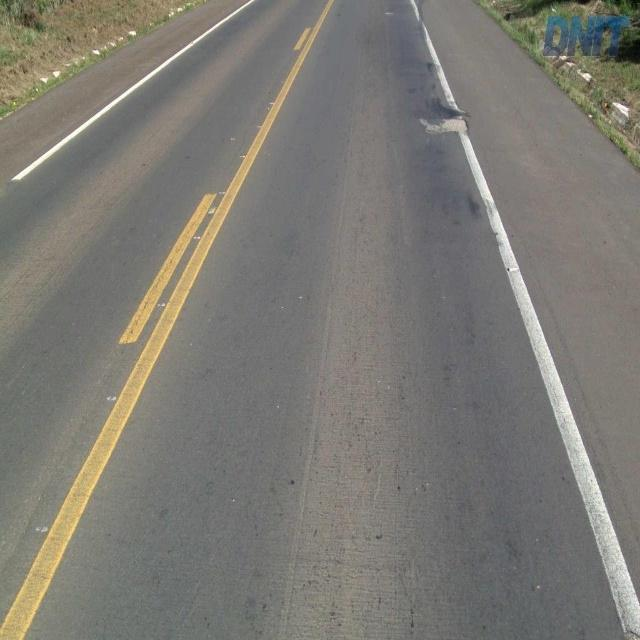pothole: (415, 112, 468, 142)
